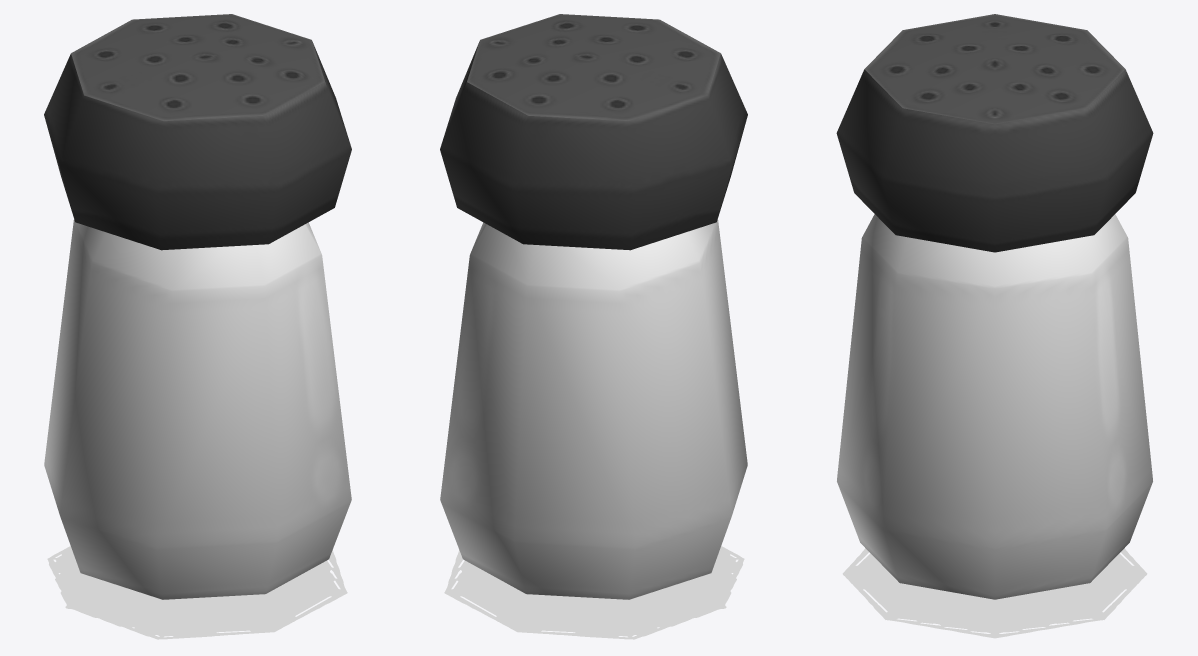
File: salt.FBX
3 renders of one model, left to right at view 1: azimuth 30°, elevation 25°; view 2: azimuth 150°, elevation 25°; view 3: azimuth 270°, elevation 25°, orthographic.
Visible parts, largest first — view 1: salt (×2); view 2: salt (×2); view 3: salt (×2).
Part boxes in pixels (x1,y1,x2,y2): salt (×2): (44, 14, 351, 639); salt (×2): (440, 14, 747, 639); salt (×2): (836, 14, 1153, 638).
Size of the model in its own units: 2.78 by 4.18 by 2.78.
